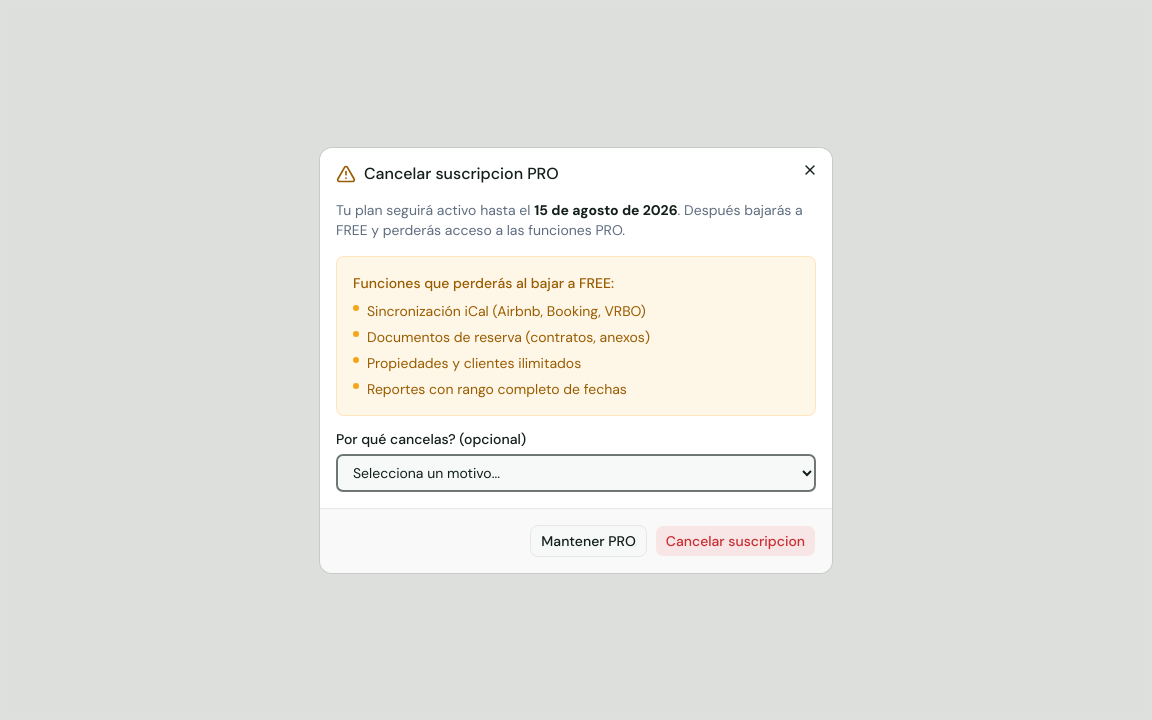
Scenario: CancelSubscriptionDialog › si reason es other, muestra Textarea para custom reason
Select "Otro motivo" in the dropdown at (576, 472), box [336,454,816,492]
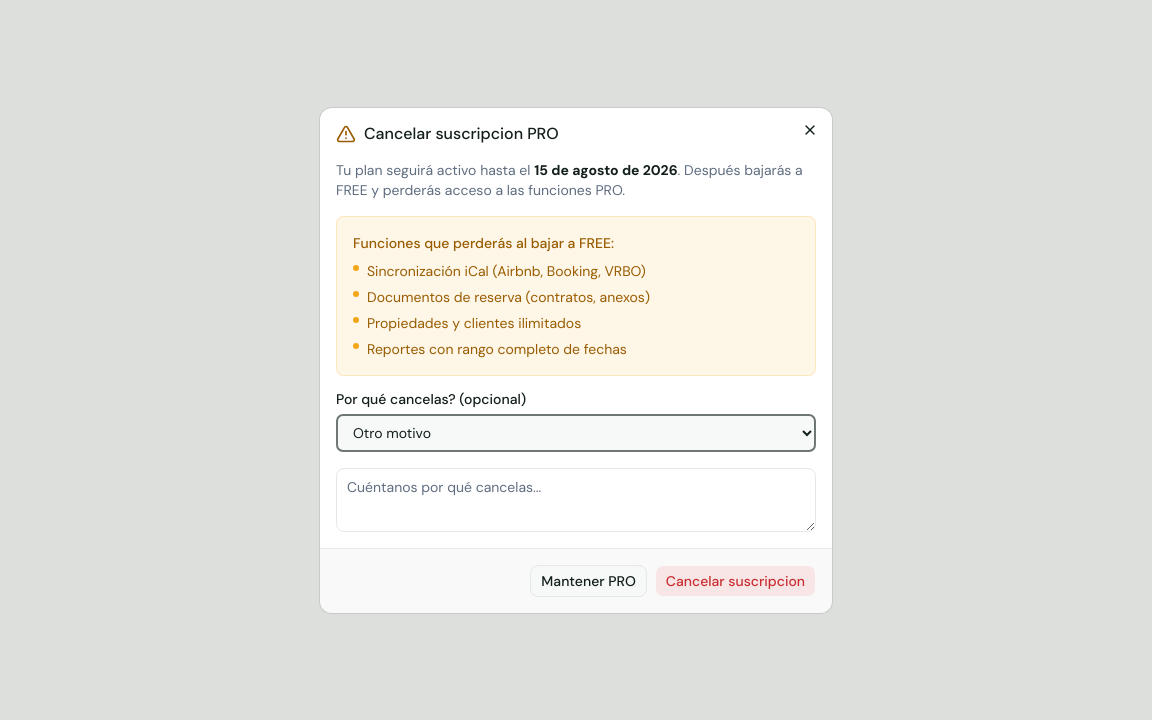
Check: the text box with placeholder "Cuéntanos por qué cancelas..." is shown, box [336,468,816,532]
